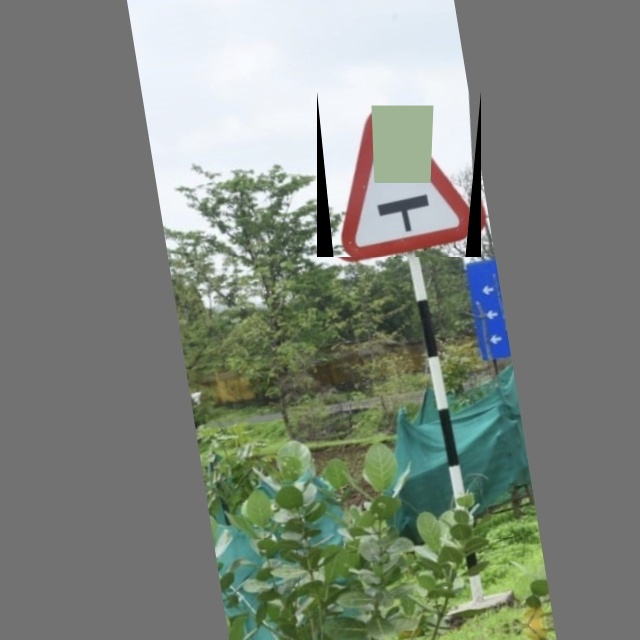T_Intersection: (317, 91, 481, 257)
